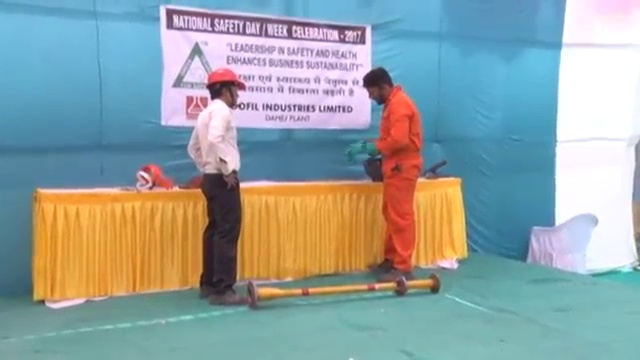helmet: (204, 68, 247, 92)
helmet_off: (362, 65, 397, 108)
helmet_on: (203, 69, 248, 112)
person: (177, 67, 248, 305), (361, 63, 425, 282)
